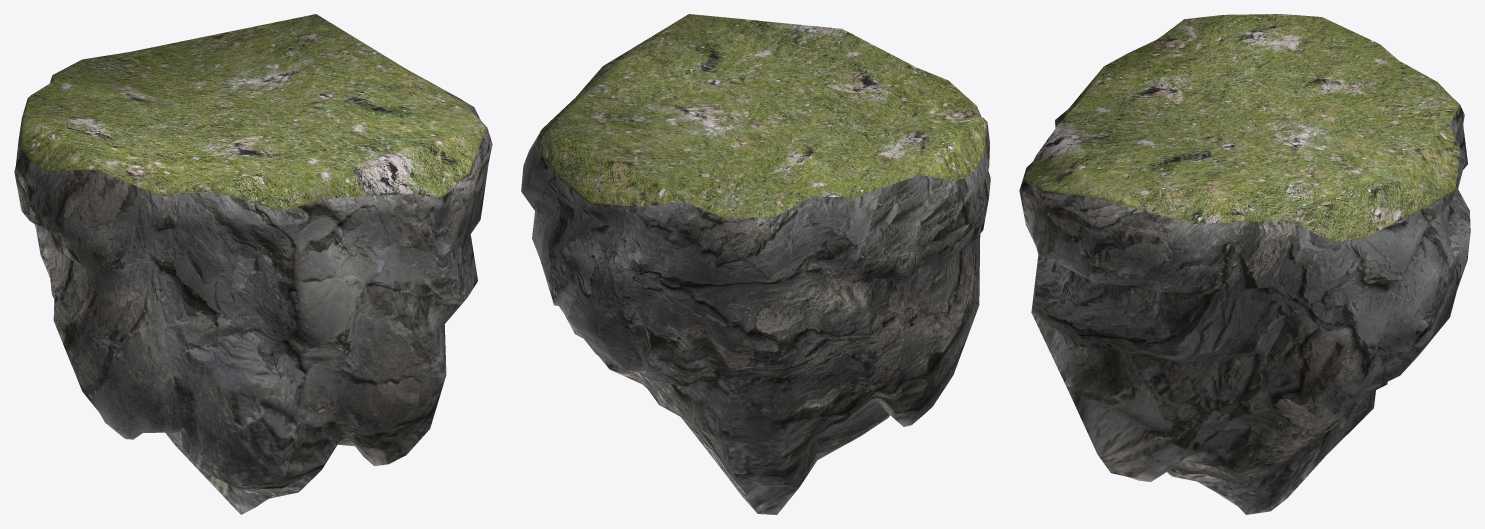
Rendered from Flying-island.fbx.
3 renders of one model, left to right at view 1: azimuth 30°, elevation 25°; view 2: azimuth 150°, elevation 25°; view 3: azimuth 270°, elevation 25°, orthographic.
Visible parts, largest first — view 1: FLoatingIsland-LPM.Base, FLoatingIsland-LPM.grass; view 2: FLoatingIsland-LPM.Base, FLoatingIsland-LPM.grass; view 3: FLoatingIsland-LPM.Base, FLoatingIsland-LPM.grass.
Boxes of the visible parts, bbox=[...] form: FLoatingIsland-LPM.Base: bbox=[14, 77, 492, 514]; FLoatingIsland-LPM.grass: bbox=[21, 14, 486, 210]; FLoatingIsland-LPM.Base: bbox=[521, 60, 990, 514]; FLoatingIsland-LPM.grass: bbox=[535, 14, 987, 217]; FLoatingIsland-LPM.Base: bbox=[1019, 37, 1470, 514]; FLoatingIsland-LPM.grass: bbox=[1024, 14, 1459, 243].
Bounding box in the file's own units: 1079 × 1050 × 1039.
